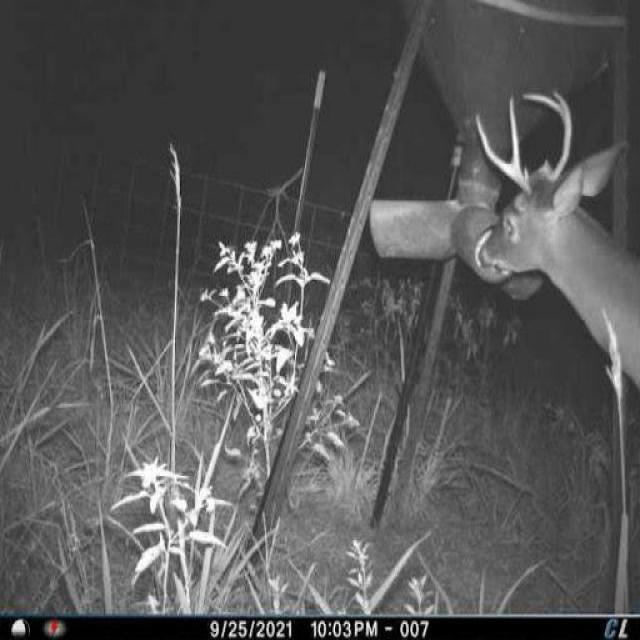deer: (465, 79, 640, 405)
